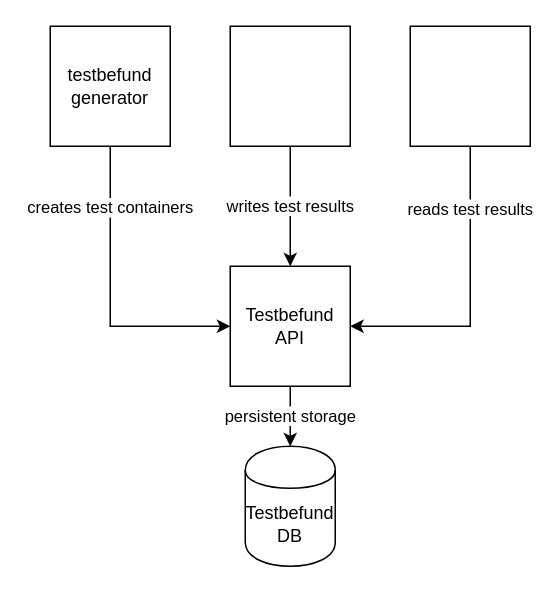
Some shapes in this 558 by 593 pixel diagram are drawn without their labels. The centre of each missing label's shape, as x and y in pixels:
"patient-pwa" goes at [469,85].
"testbefund input" goes at [289,85].
